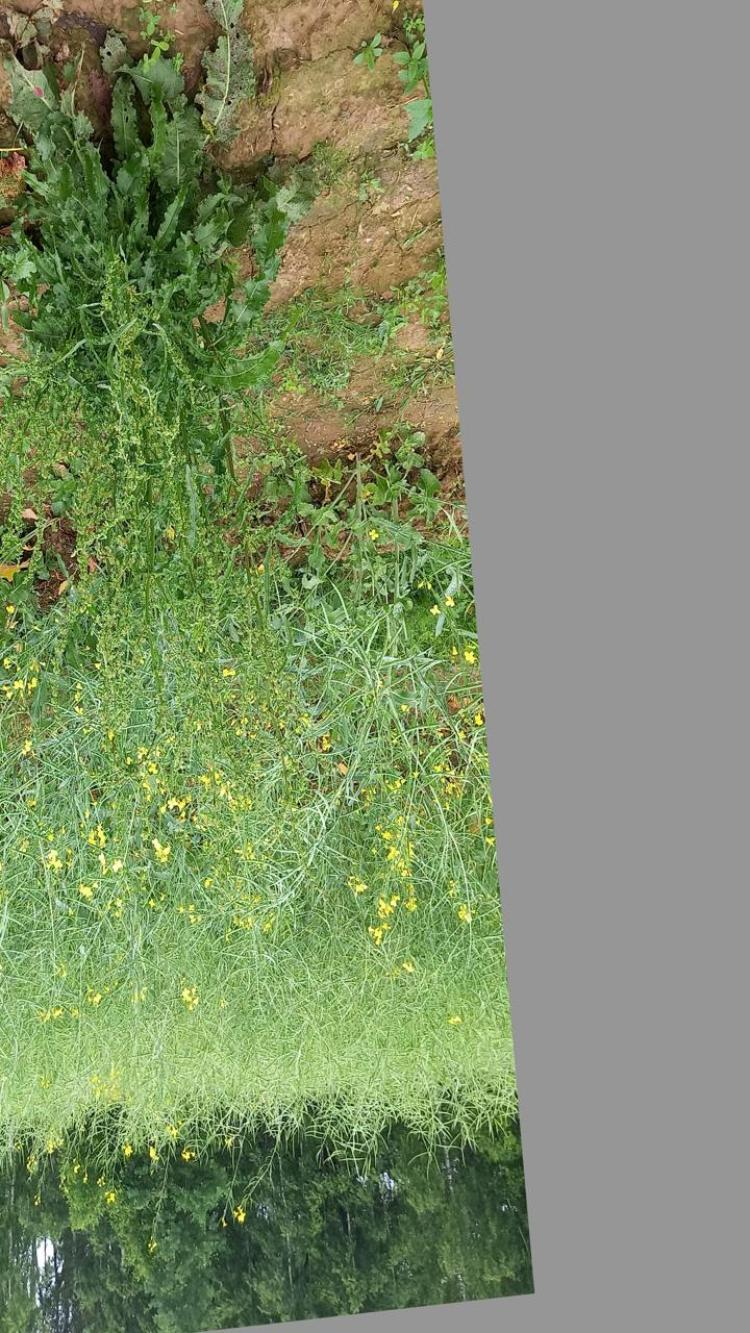zhavel: (4, 25, 338, 762)
